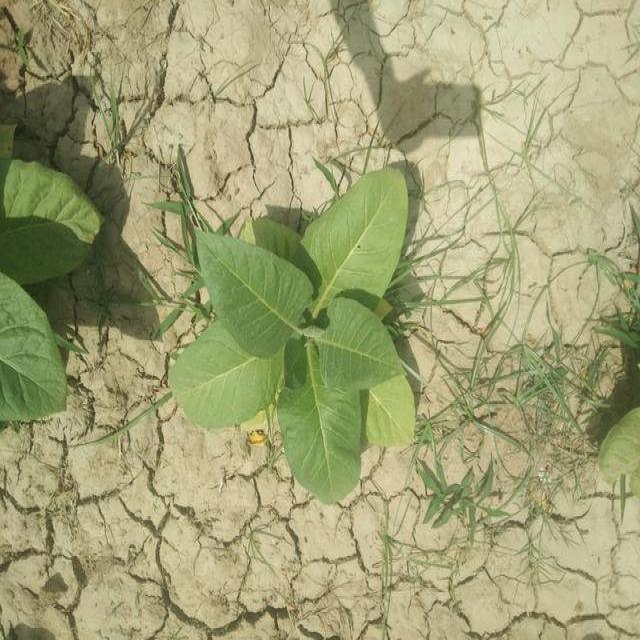crop: (178, 169, 428, 494), (0, 125, 77, 418)
